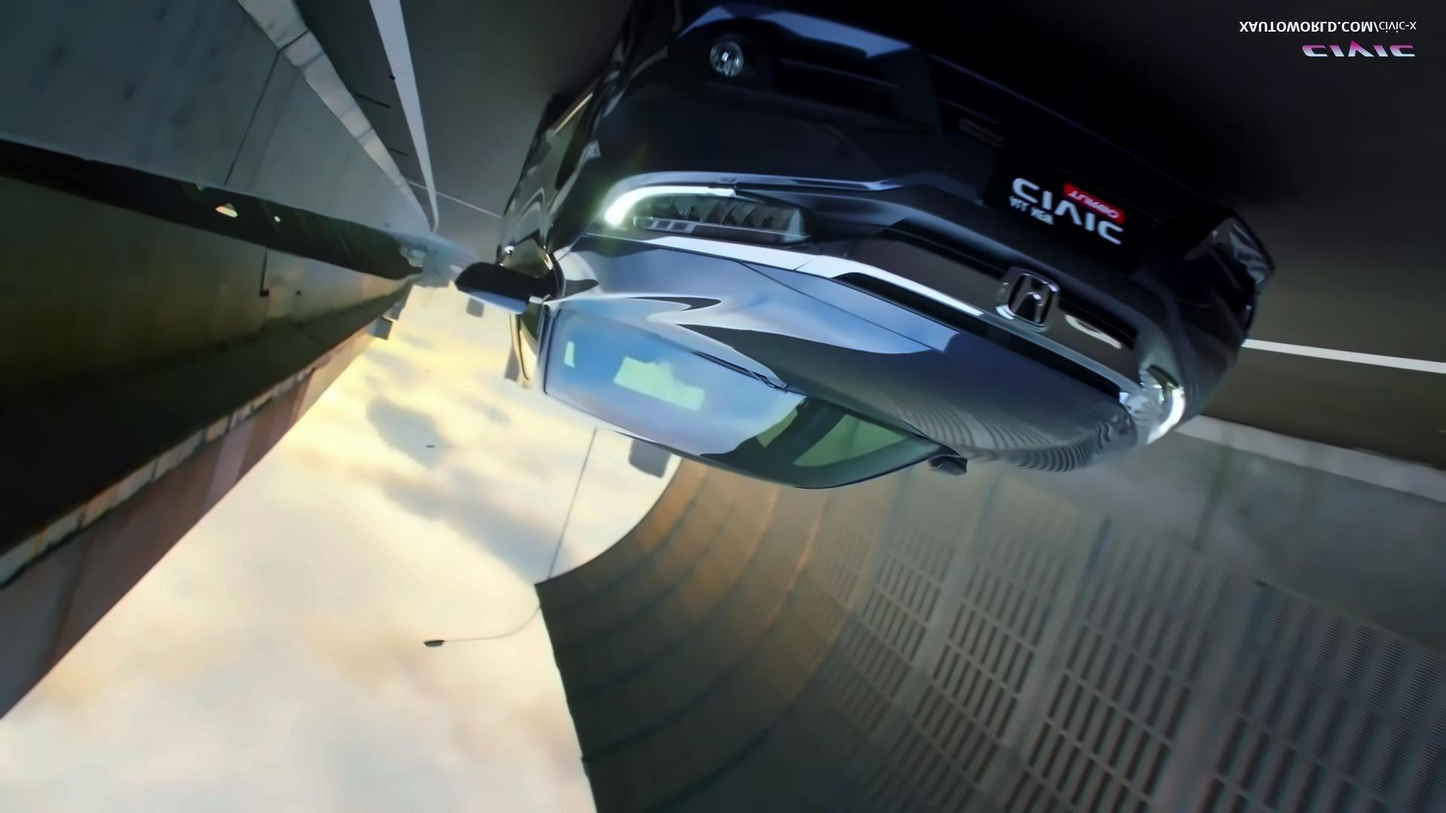Car hood: (565, 239, 1150, 471)
Front bumper: (680, 0, 1298, 311)
Headlight - -L-: (595, 180, 822, 254)
Headlight - -R-: (1114, 355, 1192, 450)
Side bumper - -L-: (480, 55, 616, 192)
Side mirror - -L-: (456, 261, 544, 311)
